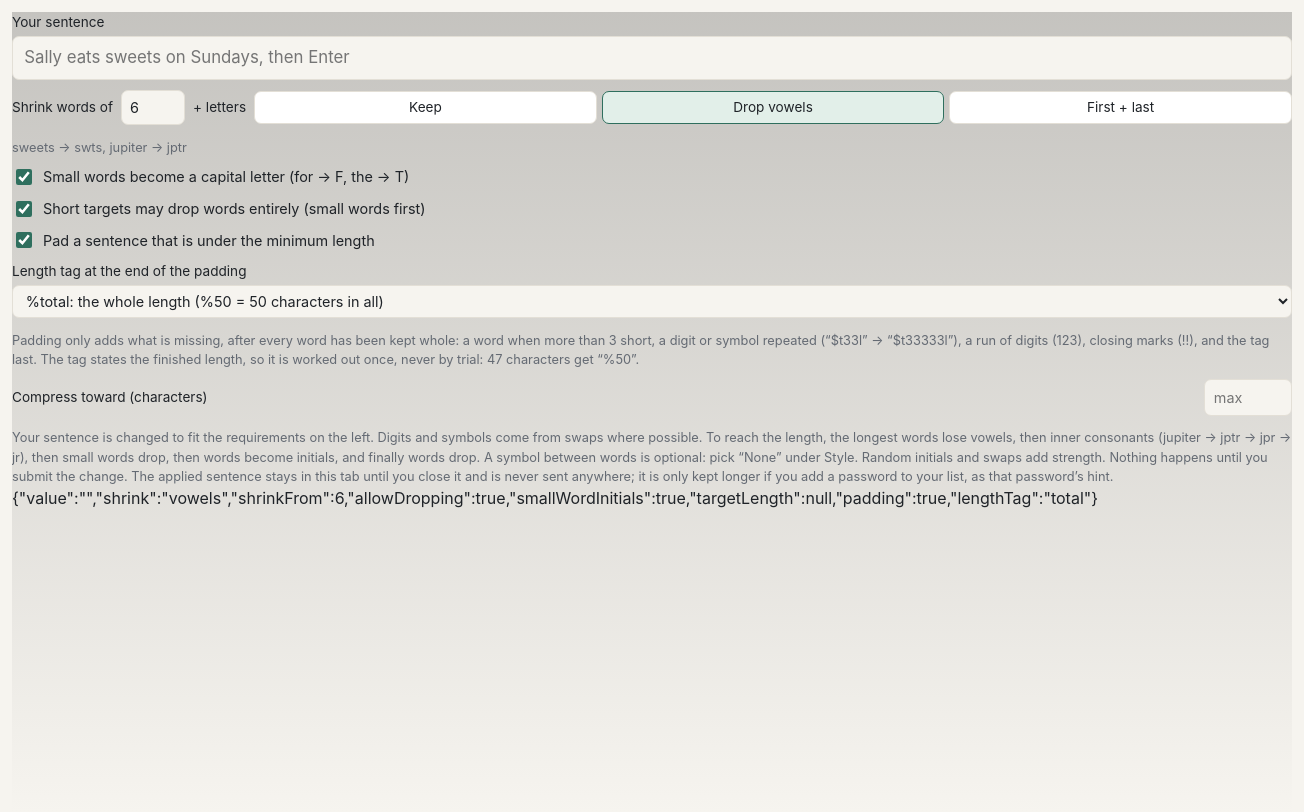
Test: SentenceInput › controls padding and its length tag
Select "@factor: a number that divides the length before it (@3)" in the dropdown labelled "Length tag at the end of the padding" at (652, 302), box [12,285,1292,318]
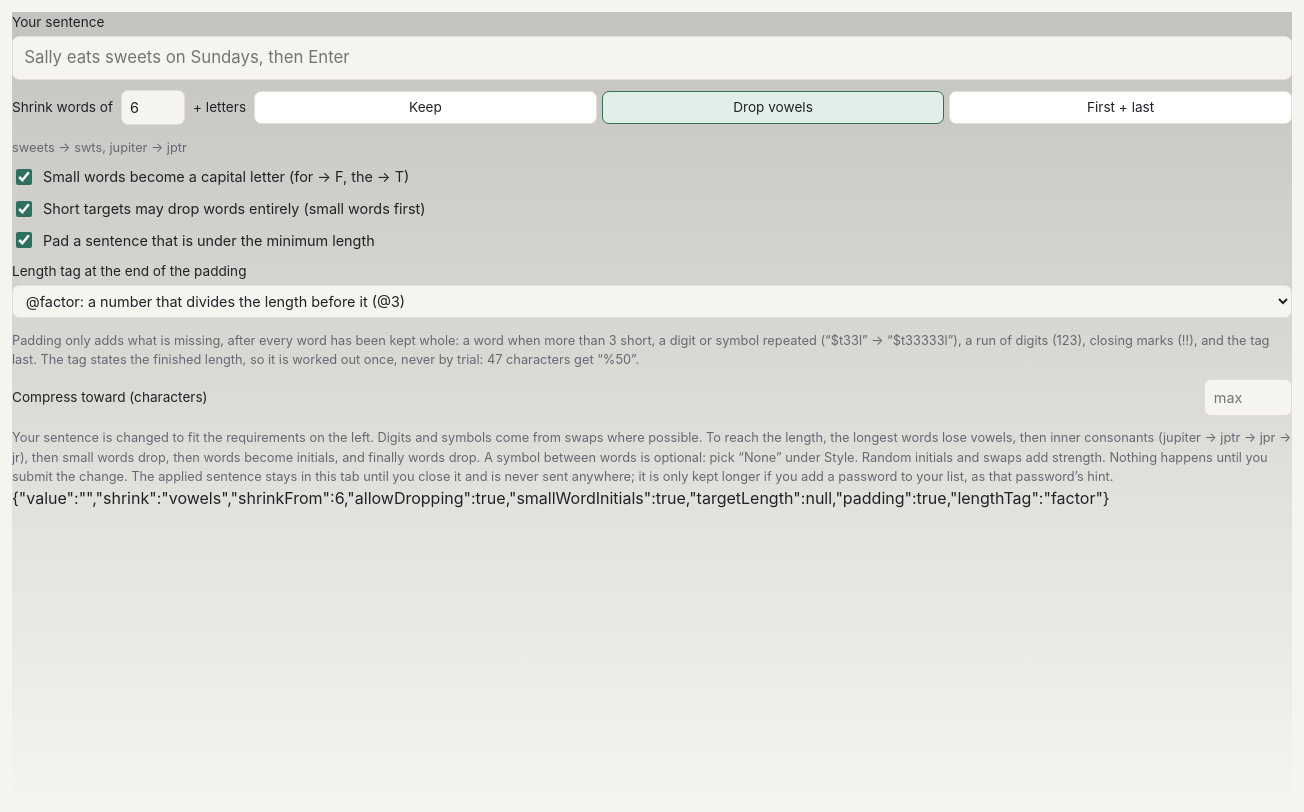
Click the checkbox labelled "Pad a sentence that is under the minimum length" at (24, 240), box [16,232,32,248]
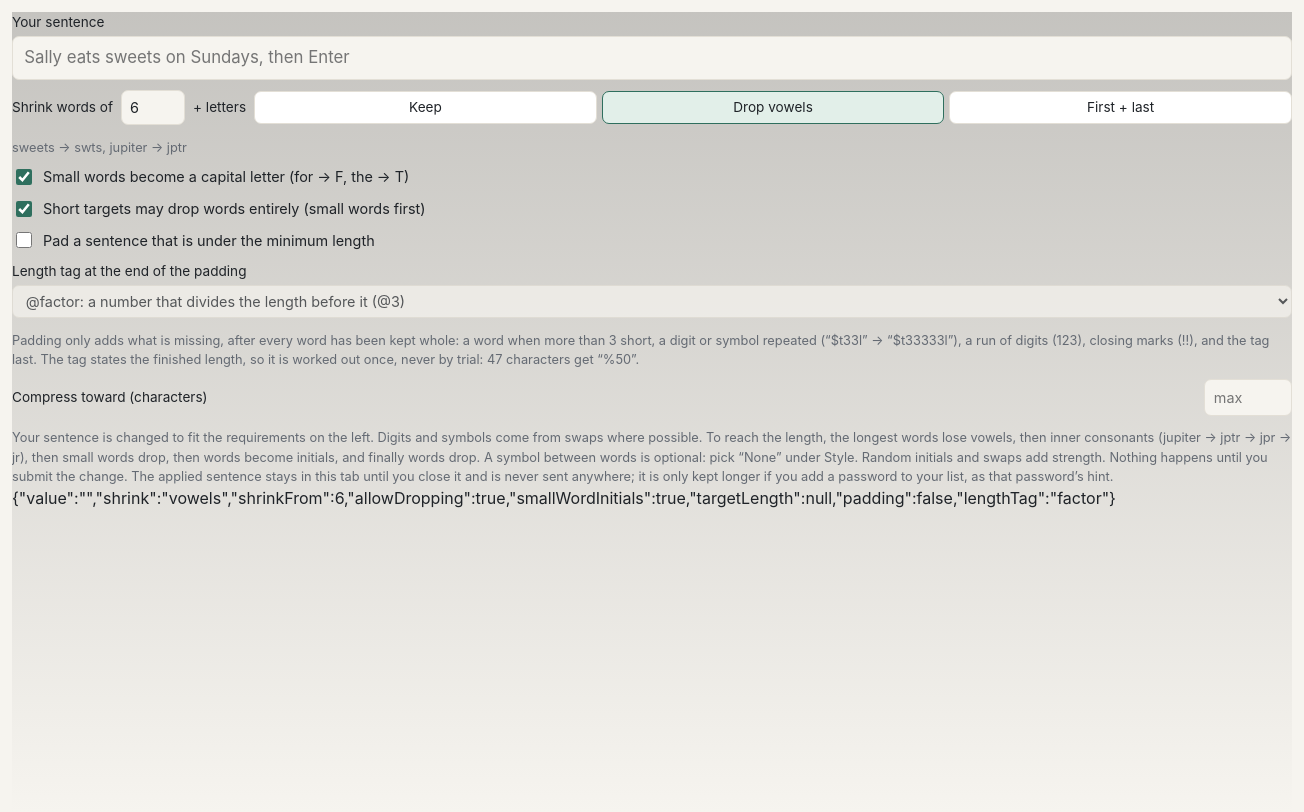
Check: the dropdown labelled "Length tag at the end of the padding" is disabled, box [12,285,1292,318]
